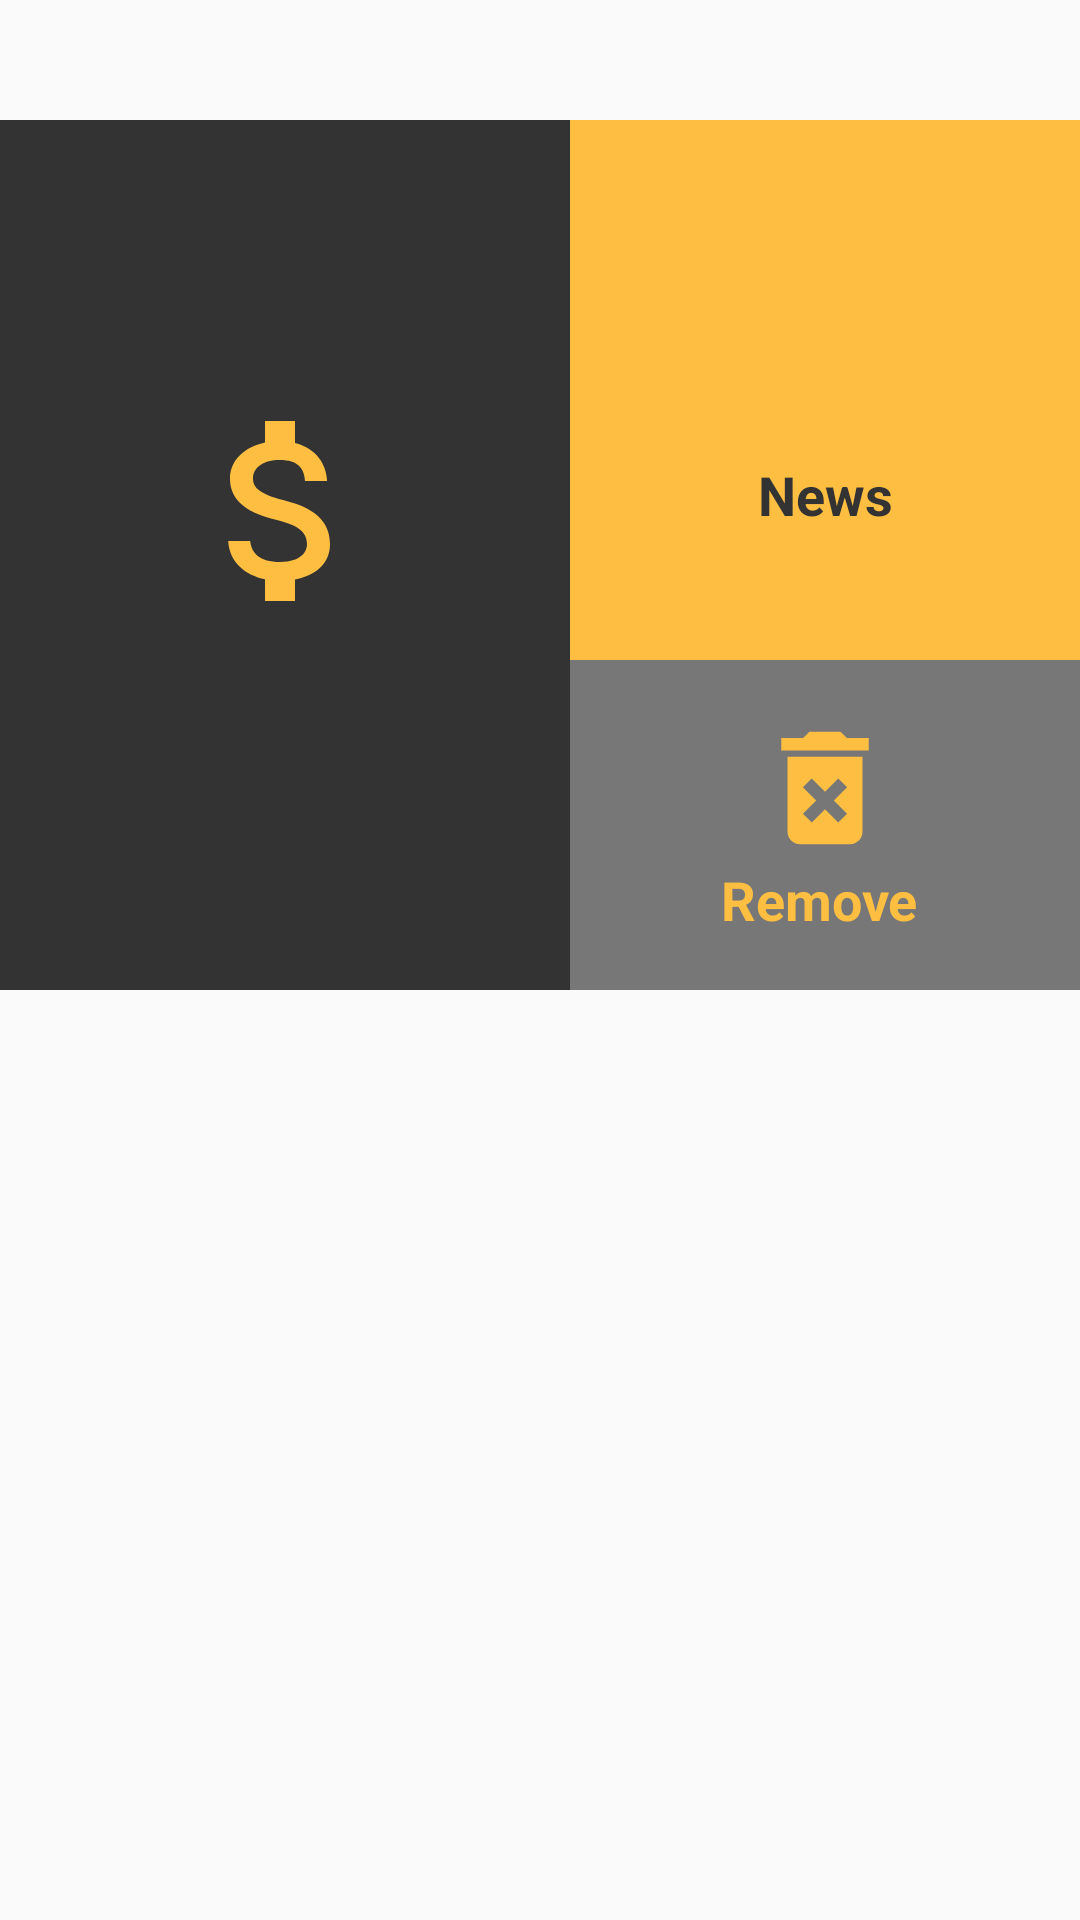

Icons on this 1080 x 1920 Android screen, each with its box as (x1, y1, x2, y2):
attach money: (228, 421, 330, 601)
delete forever: (781, 731, 869, 845)
